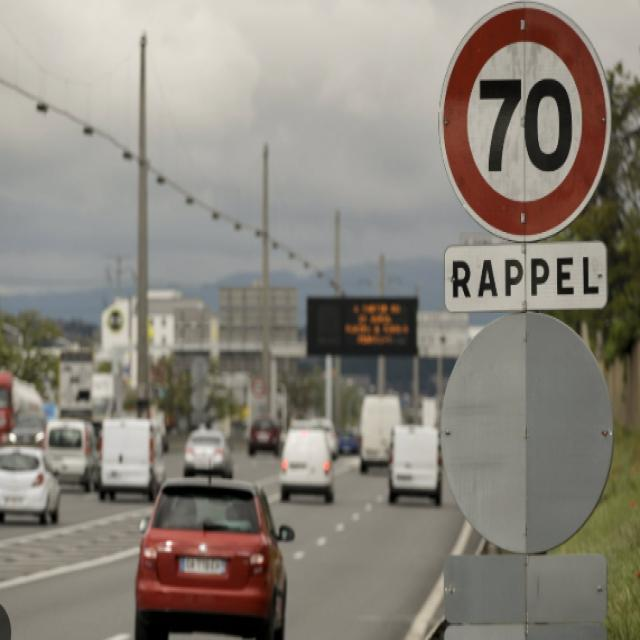speed_70: (439, 0, 613, 241)
